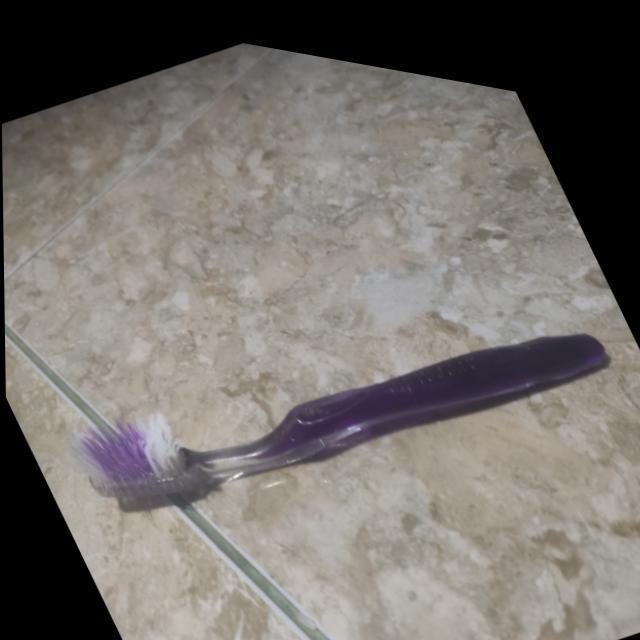toothbrush: (63, 171, 632, 613)
